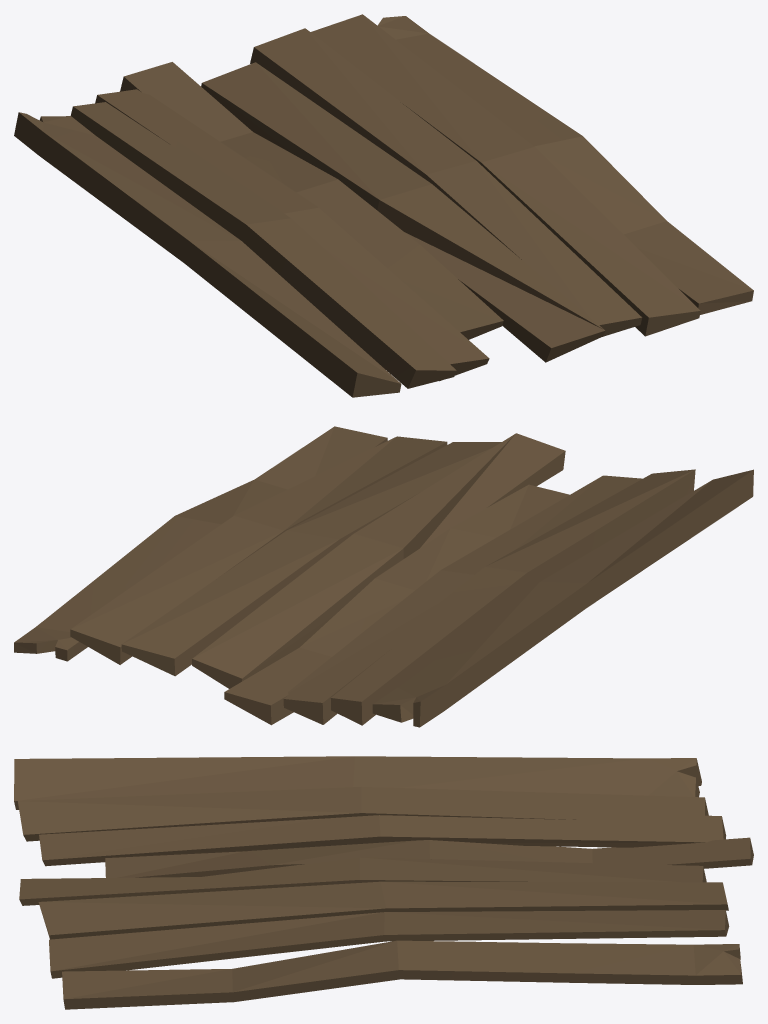
File: SM_Env_Wood_01.fbx
3 renders of one model, top to bottom at view 1: azimuth 30°, elevation 25°; view 2: azimuth 150°, elevation 25°; view 3: azimuth 270°, elevation 25°, orthographic. The views are drawn at different scales.
Parts seen in each view (by area): view 1: SM_Env_Wood_01; view 2: SM_Env_Wood_01; view 3: SM_Env_Wood_01.
Part boxes in pixels (bbox=[...]): SM_Env_Wood_01: bbox=[14, 14, 753, 397]; SM_Env_Wood_01: bbox=[14, 426, 753, 727]; SM_Env_Wood_01: bbox=[14, 756, 753, 1009].
Bounding box in the file's own units: 103 × 13.46 × 159.
1 material, 1 textured.
